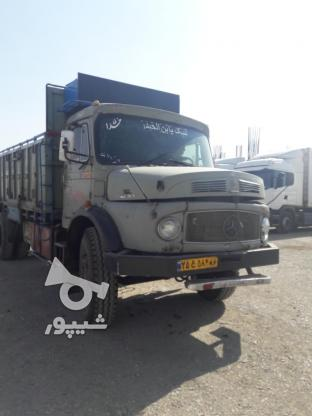car: (175, 254, 216, 273)
